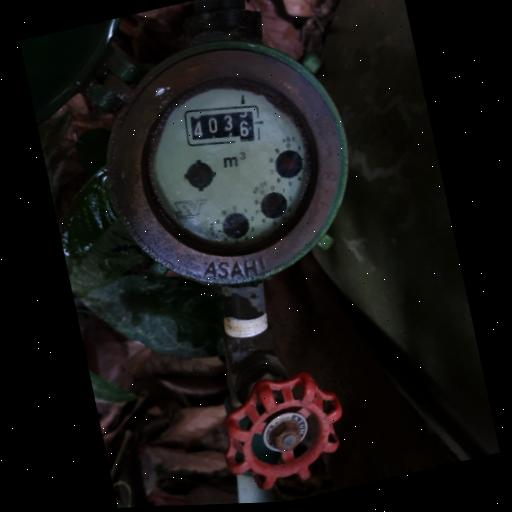0: (200, 111, 224, 141)
3: (215, 109, 243, 140)
4: (187, 112, 208, 142)
6: (233, 108, 258, 144)
border_water_meter_number: (179, 93, 265, 156)
